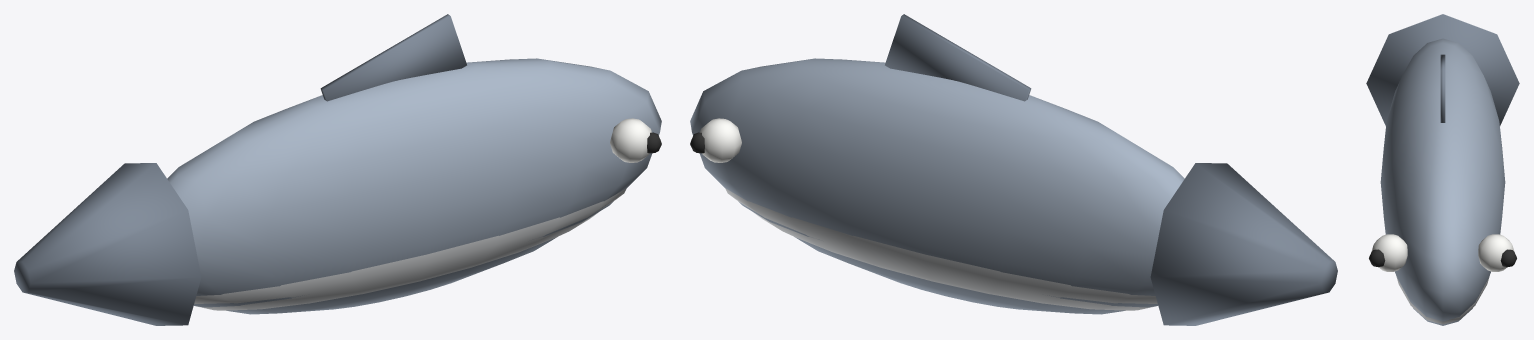
File: Food_ikan_cakalang.fbx
3 views of the same model, side by side, from view 1: azimuth 30°, elevation 25°; view 2: azimuth 150°, elevation 25°; view 3: azimuth 270°, elevation 25° (orthographic). The views are drawn at different scales.
Visible parts, largest first — view 1: Food_ikan_cakalang; view 2: Food_ikan_cakalang; view 3: Food_ikan_cakalang.
Boxes of the visible parts, box(x1,y1,x2,y2) form: Food_ikan_cakalang: box(14, 14, 661, 325); Food_ikan_cakalang: box(690, 14, 1337, 325); Food_ikan_cakalang: box(1366, 14, 1519, 325).
Bounding box in the file's own units: 0.2625 × 0.104 × 0.064.
